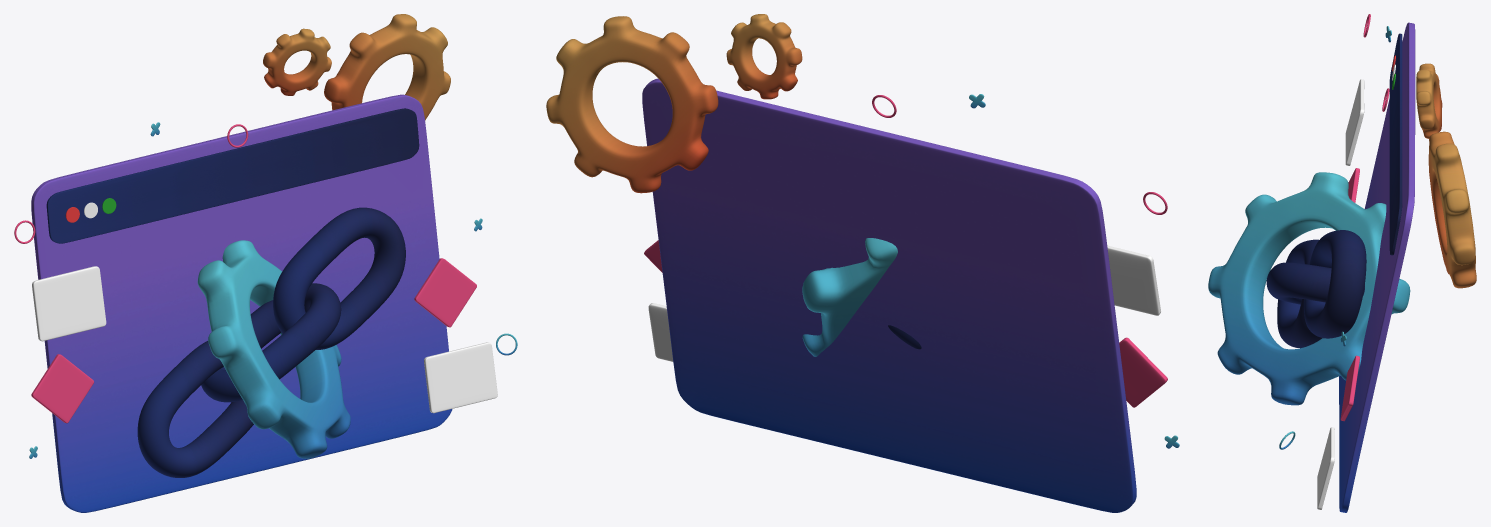
File: link-building-3d-animated-icon-386227195093.glb
The picture shows the model from 3 angles, left to right: view 1: azimuth 30°, elevation 25°; view 2: azimuth 150°, elevation 25°; view 3: azimuth 270°, elevation 25°; orthographic projection. The views are drawn at different scales.
Visible parts, largest first — view 1: Cube.008, Cube.001, Gear.002, Torus, Torus.003, Gear.001, Torus.004, Cube.020, Cube.019, Gear.003, Cube.022, Cube.006; view 2: Cube.008, Gear.001, Gear.002, Gear.003, Cube.020, Cube.006, Cube.019; view 3: Gear.002, Cube.008, Gear.001, Torus, Cube.001, Torus.004, Torus.003, Gear.003, Cube.020, Cube.019, Cube.022.
Boxes of the visible parts, box(x1,y1,x2,y2) form: Cube.008: box(31, 94, 452, 512); Cube.001: box(46, 108, 419, 243); Gear.002: box(197, 240, 350, 458); Torus: box(273, 207, 405, 349); Torus.003: box(137, 341, 253, 477); Gear.001: box(324, 14, 450, 120); Torus.004: box(201, 283, 341, 402); Cube.020: box(32, 266, 106, 341); Cube.019: box(424, 342, 497, 413); Gear.003: box(263, 28, 331, 95); Cube.022: box(414, 258, 476, 327); Cube.006: box(31, 354, 93, 423); Cube.008: box(642, 78, 1136, 512); Gear.001: box(546, 16, 718, 193); Gear.002: box(802, 238, 897, 356); Gear.003: box(726, 14, 802, 99); Cube.020: box(1107, 245, 1160, 315); Cube.006: box(1119, 337, 1167, 407); Cube.019: box(648, 303, 673, 361); Gear.002: box(1208, 172, 1410, 405); Cube.008: box(1339, 22, 1415, 512); Gear.001: box(1428, 131, 1476, 288); Torus: box(1304, 230, 1366, 338); Cube.001: box(1389, 33, 1402, 255); Torus.004: box(1266, 262, 1364, 304); Torus.003: box(1277, 239, 1322, 348); Gear.003: box(1416, 63, 1442, 138); Cube.020: box(1345, 79, 1364, 165); Cube.019: box(1317, 427, 1334, 509); Cube.022: box(1340, 355, 1359, 421).
Size of the model in its own units: 6.27 by 4.87 by 2.98.
Materials: 12 (6 with a texture image).
